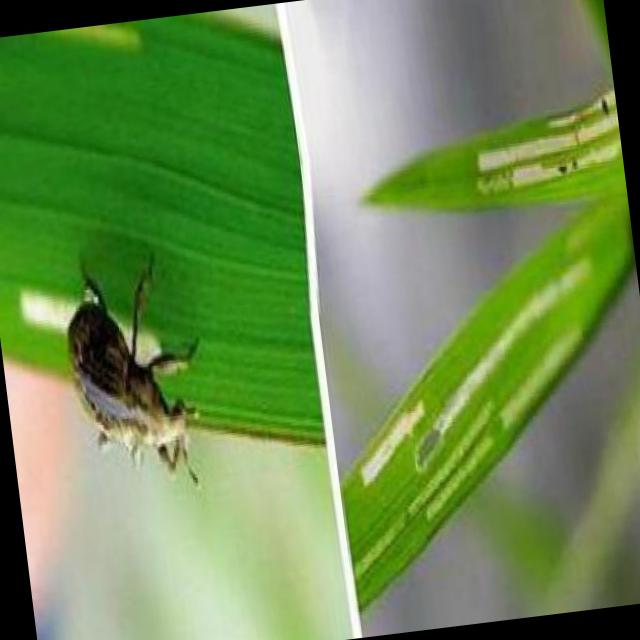rice-bug: (52, 245, 202, 492)
